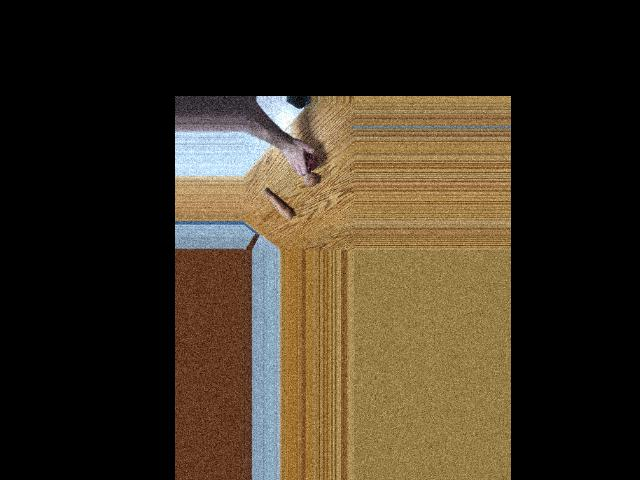onion: (303, 170, 319, 186)
